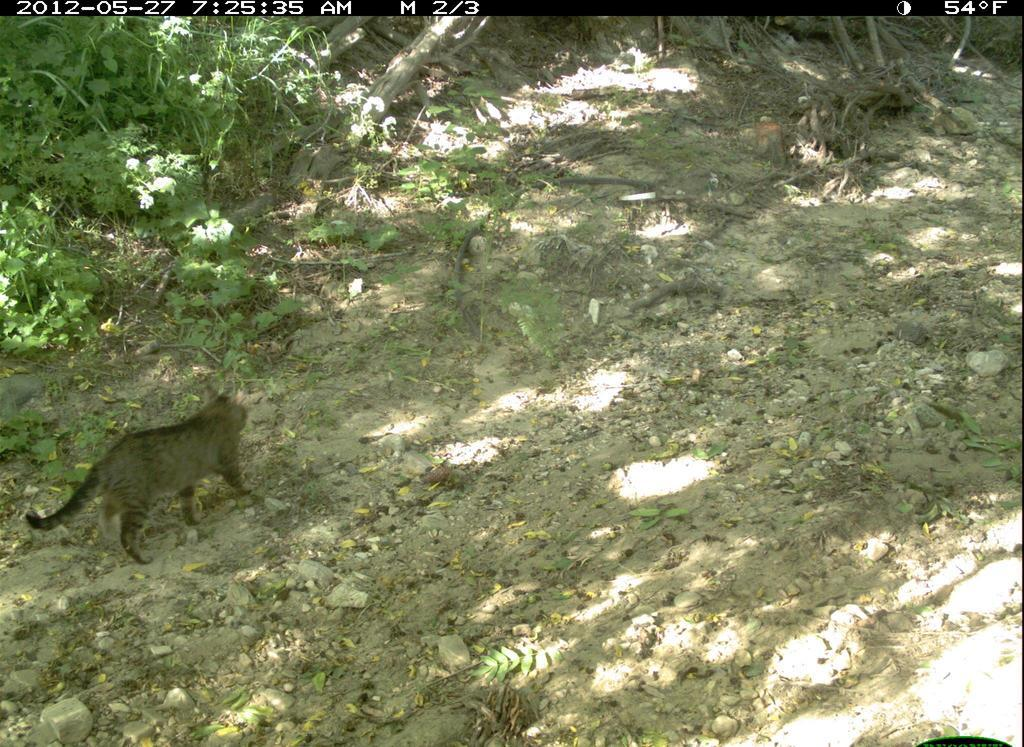cat: (27, 391, 268, 569)
